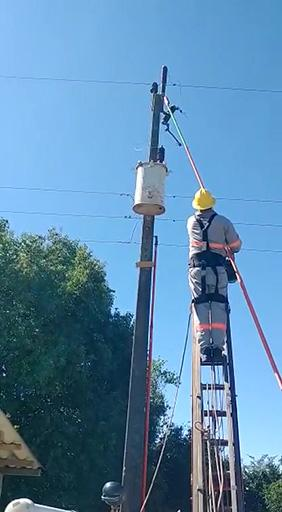Vara_Manobra: (165, 106, 282, 387)
